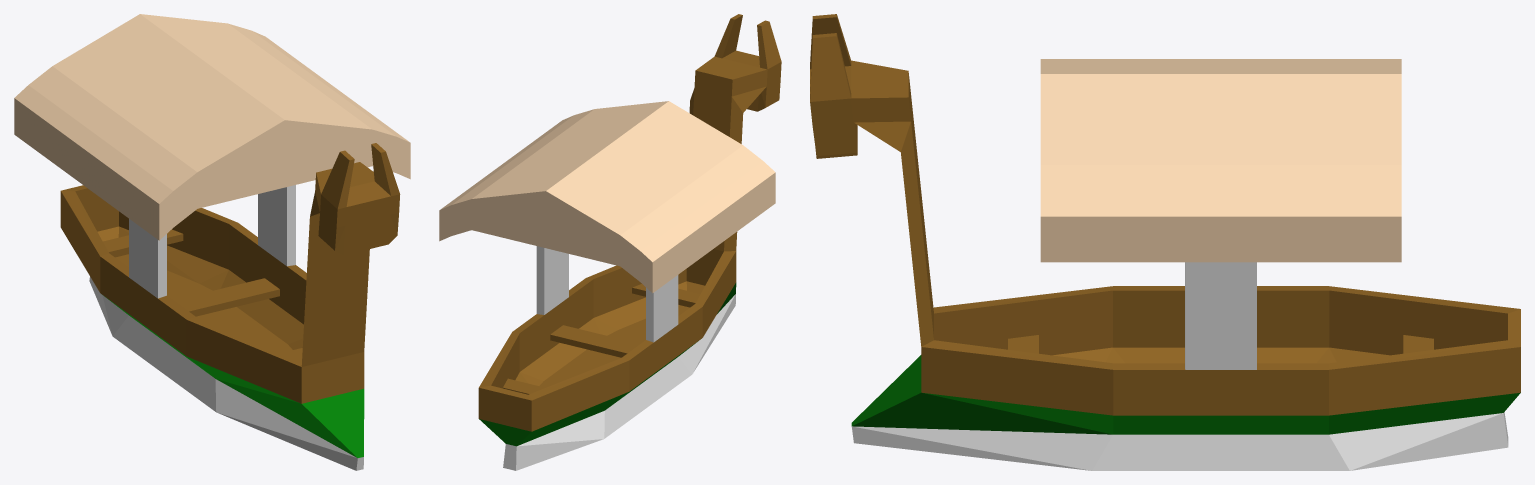
File: boat.glb
The picture shows the model from 3 angles, left to right: view 1: azimuth 30°, elevation 25°; view 2: azimuth 150°, elevation 25°; view 3: azimuth 270°, elevation 25°; orthographic projection. The views are drawn at different scales.
Visible parts, largest first — view 1: Wooden boat, Cube; view 2: Wooden boat, Cube; view 3: Wooden boat, Cube.
Part boxes in pixels (box(x1,y1,x2,y2)): Wooden boat: box(60, 143, 400, 470); Cube: box(14, 14, 410, 240); Wooden boat: box(478, 14, 781, 470); Cube: box(439, 101, 775, 293); Wooden boat: box(810, 14, 1520, 470); Cube: box(1040, 59, 1401, 262).
Size of the model in its own units: 2.87 by 3.62 by 5.65.
